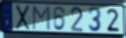2: (70, 6, 84, 33), (106, 8, 121, 33)
3: (87, 7, 103, 34)
6: (53, 6, 66, 32)
M: (31, 5, 51, 32)
X: (15, 4, 31, 31)
